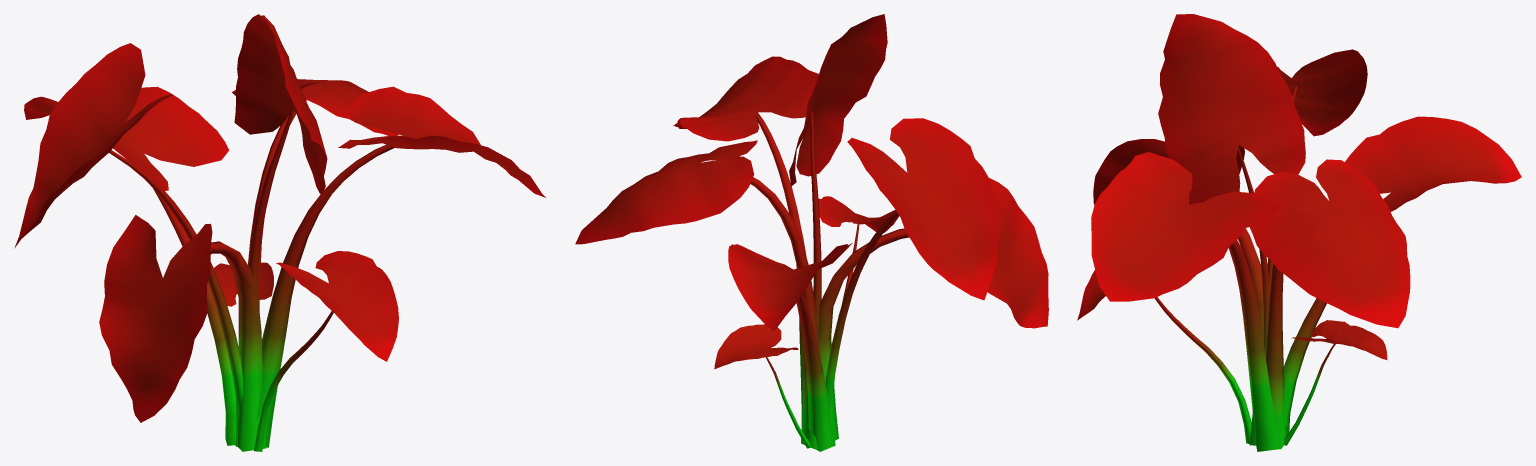
File: F01_Taro_03.fbx
3 views of the same model, side by side, from view 1: azimuth 30°, elevation 25°; view 2: azimuth 150°, elevation 25°; view 3: azimuth 270°, elevation 25° (orthographic). The views are drawn at different scales.
Parts seen in each view (by area): view 1: _b447_Var3_LOD0; view 2: _b447_Var3_LOD0; view 3: _b447_Var3_LOD0.
Boxes of the visible parts, left/top/right/bottom form: _b447_Var3_LOD0: left=14, top=14, right=545, bottom=451; _b447_Var3_LOD0: left=575, top=14, right=1048, bottom=451; _b447_Var3_LOD0: left=1077, top=14, right=1521, bottom=451.
Bounding box in the file's own units: 129 × 133 × 127.
